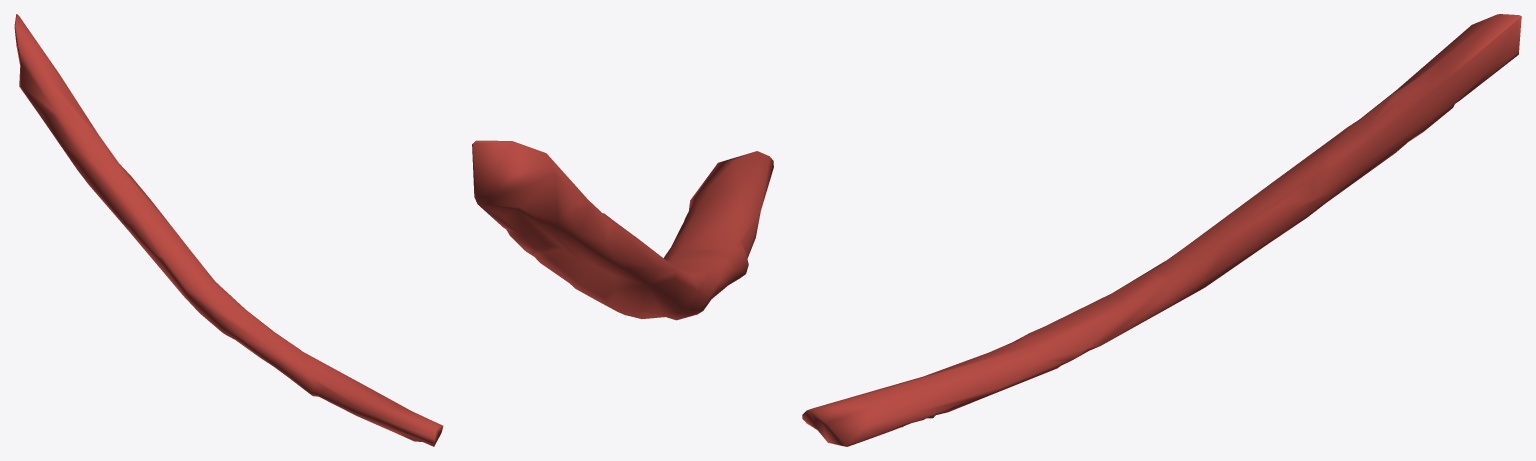
Rendered from musculos-tendinous-arch-of-levator-ani-r.glb.
3 renders of one model, left to right at view 1: azimuth 30°, elevation 25°; view 2: azimuth 150°, elevation 25°; view 3: azimuth 270°, elevation 25°, orthographic. The views are drawn at different scales.
Visible parts, largest first — view 1: Tendinous arch of levator ani.r; view 2: Tendinous arch of levator ani.r; view 3: Tendinous arch of levator ani.r.
Boxes of the visible parts, x1=… form: Tendinous arch of levator ani.r: x1=14, y1=14, x2=443, y2=446; Tendinous arch of levator ani.r: x1=472, y1=140, x2=773, y2=320; Tendinous arch of levator ani.r: x1=802, y1=14, x2=1521, y2=446.
Size of the model in its own units: 0.0238 by 0.0341 by 0.0653.
